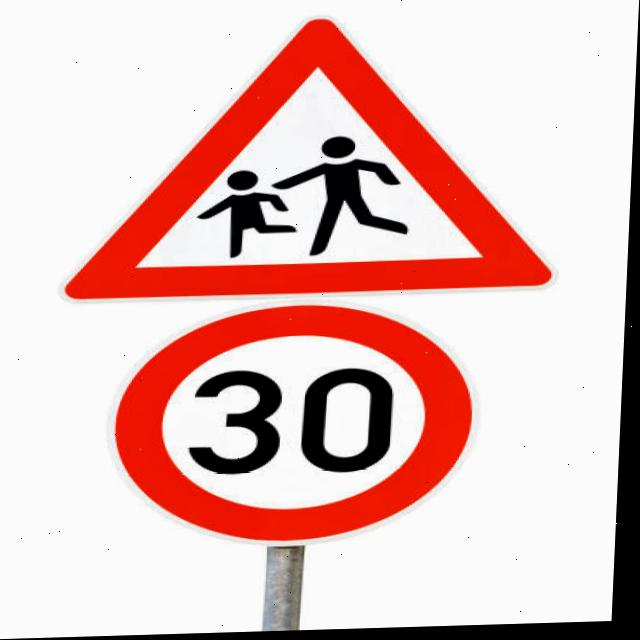Speed limit 30: (109, 299, 487, 554)
